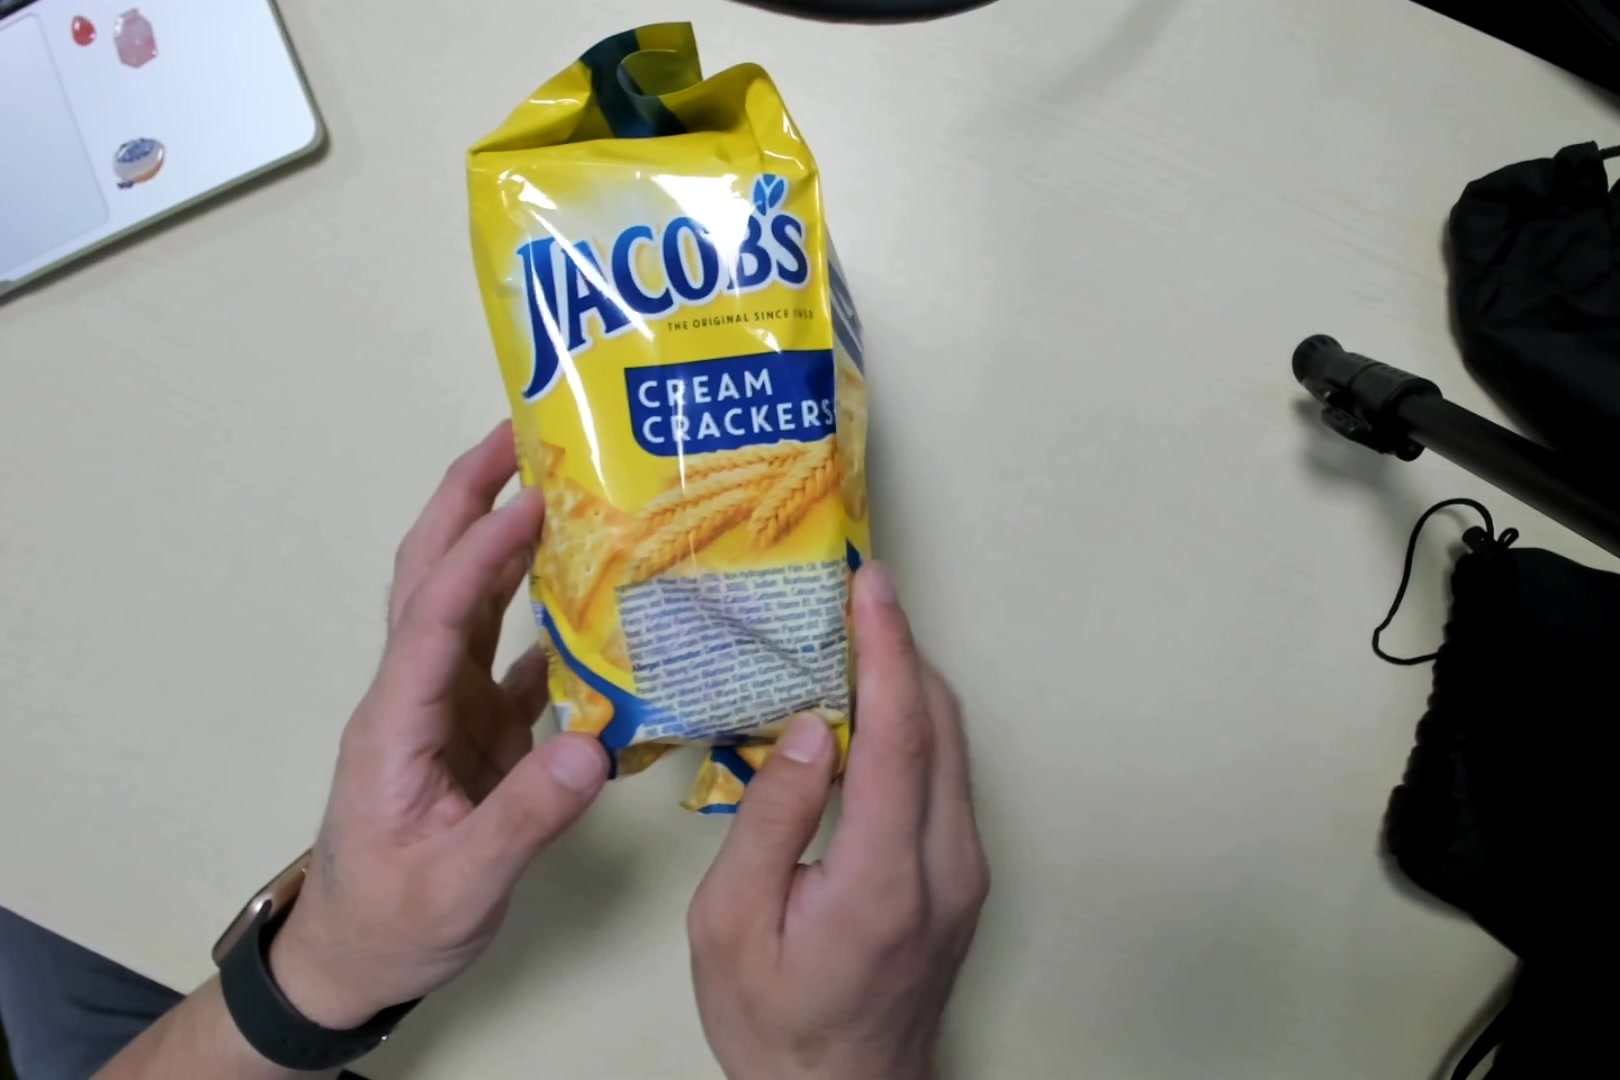BiscuitCrackersCookies_500-599g_Halal_NonHealthy: (469, 39, 865, 771)
